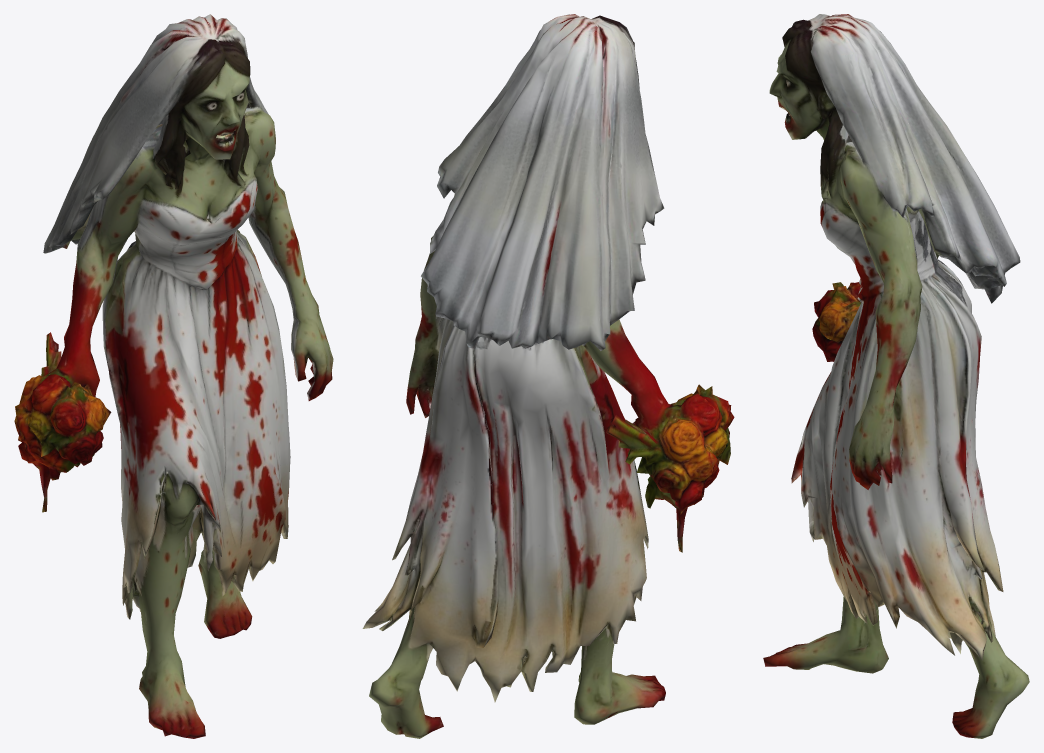
The model's file is zombie_woman.glb.
3 views of the same model, side by side, from view 1: azimuth 30°, elevation 25°; view 2: azimuth 150°, elevation 25°; view 3: azimuth 270°, elevation 25° (orthographic). The views are drawn at different scales.
Visible parts, largest first — view 1: Object_4; view 2: Object_4; view 3: Object_4.
Boxes of the visible parts, <box> form: Object_4: <box>14,14,333,738</box>; Object_4: <box>362,14,734,738</box>; Object_4: <box>763,14,1029,738</box>.
Size of the model in its own units: 0.9017 by 1.91 by 0.6888.
Materials: 1 (1 with a texture image).
